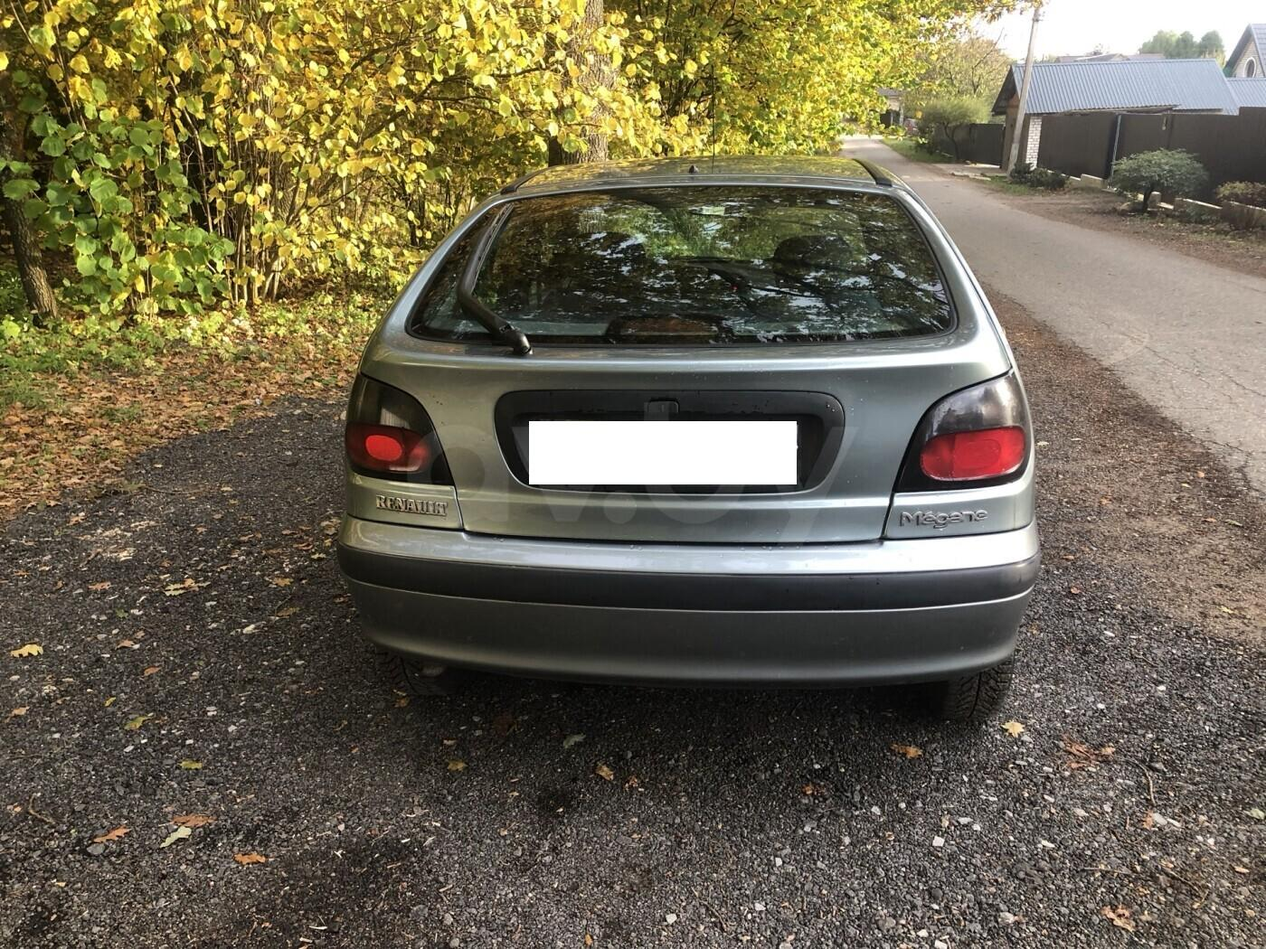Megane_1995-1999: (329, 139, 1071, 746)
